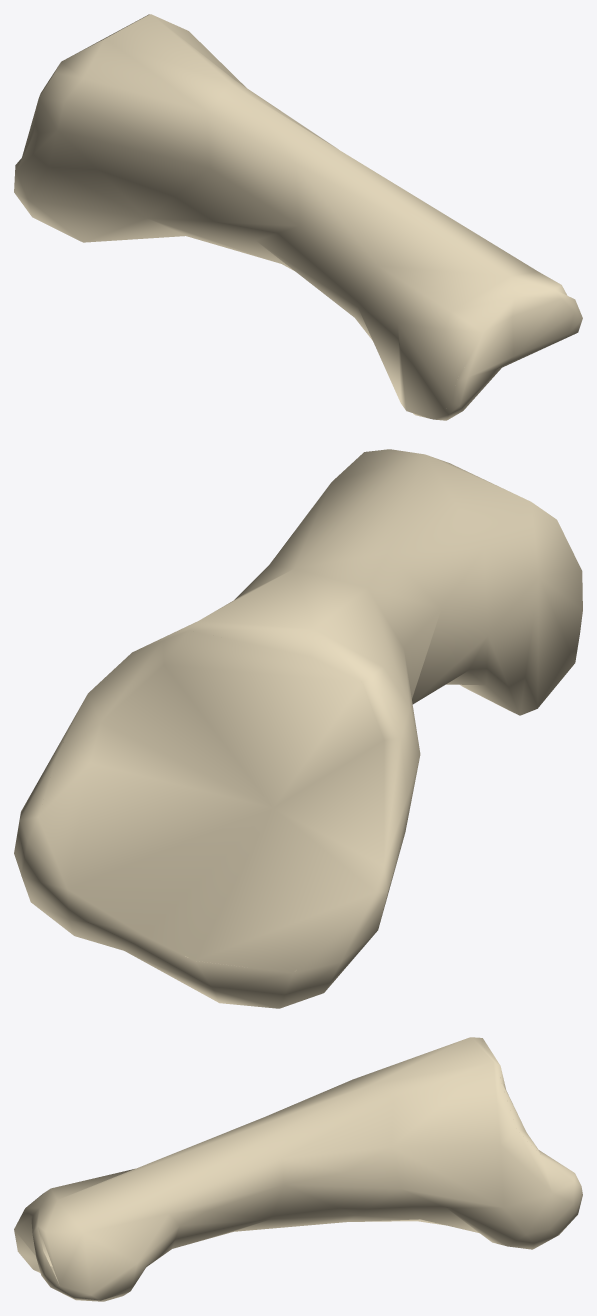
The model's file is esqueleto-proximal-phalanx-of-third-finger-of-foot-l.glb.
The picture shows the model from 3 angles, top to bottom: view 1: azimuth 30°, elevation 25°; view 2: azimuth 150°, elevation 25°; view 3: azimuth 270°, elevation 25°; orthographic projection. The views are drawn at different scales.
Visible parts, largest first — view 1: Proximal phalanx of third finger of foot.l; view 2: Proximal phalanx of third finger of foot.l; view 3: Proximal phalanx of third finger of foot.l.
Boxes of the visible parts, box(x1,y1,x2,y2) form: Proximal phalanx of third finger of foot.l: box(14, 14, 582, 420); Proximal phalanx of third finger of foot.l: box(14, 449, 582, 1008); Proximal phalanx of third finger of foot.l: box(14, 1037, 582, 1301).
Bounding box in the file's own units: 0.0164 × 0.012 × 0.0301.
